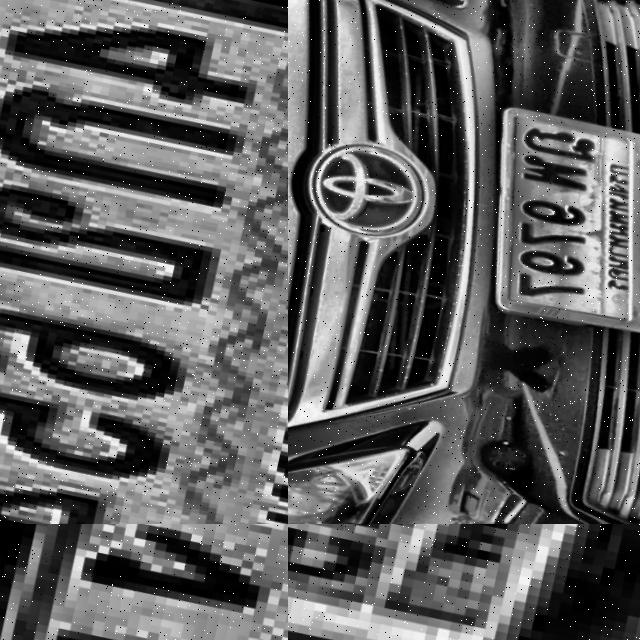license-plate: (0, 0, 288, 524), (449, 100, 640, 352), (288, 524, 640, 640), (0, 524, 288, 640)
